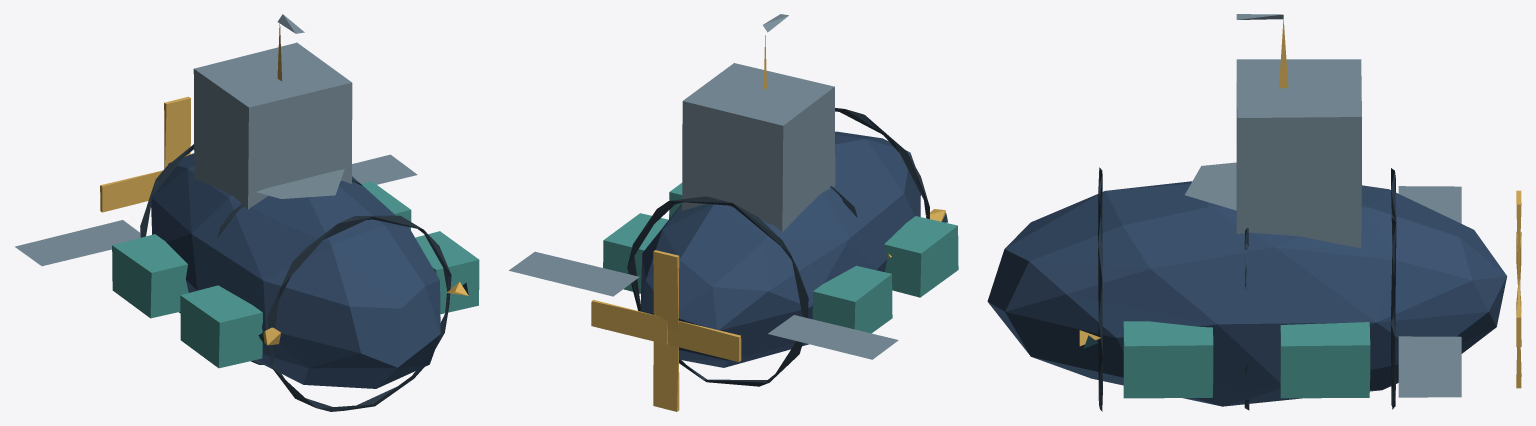
The model's file is submarines-cargo-sub.lod2.glb.
3 views of the same model, side by side, from view 1: azimuth 30°, elevation 25°; view 2: azimuth 150°, elevation 25°; view 3: azimuth 270°, elevation 25° (orthographic). The views are drawn at different scales.
Parts seen in each view (by area): view 1: submarines-cargo-sub__body, submarines-cargo-sub__propeller, submarines-cargo-sub__hatch; view 2: submarines-cargo-sub__body, submarines-cargo-sub__propeller; view 3: submarines-cargo-sub__body, submarines-cargo-sub__hatch, submarines-cargo-sub__propeller.
Boxes of the visible parts, <box> form: submarines-cargo-sub__body: <box>15,14,479,411</box>; submarines-cargo-sub__propeller: <box>100,96,190,212</box>; submarines-cargo-sub__hatch: <box>256,169,344,198</box>; submarines-cargo-sub__body: <box>509,14,958,386</box>; submarines-cargo-sub__propeller: <box>591,250,741,411</box>; submarines-cargo-sub__body: <box>987,14,1507,411</box>; submarines-cargo-sub__hatch: <box>1185,162,1236,210</box>; submarines-cargo-sub__propeller: <box>1516,190,1521,388</box>.
Size of the model in its own units: 9.55 by 8.18 by 10.21.
